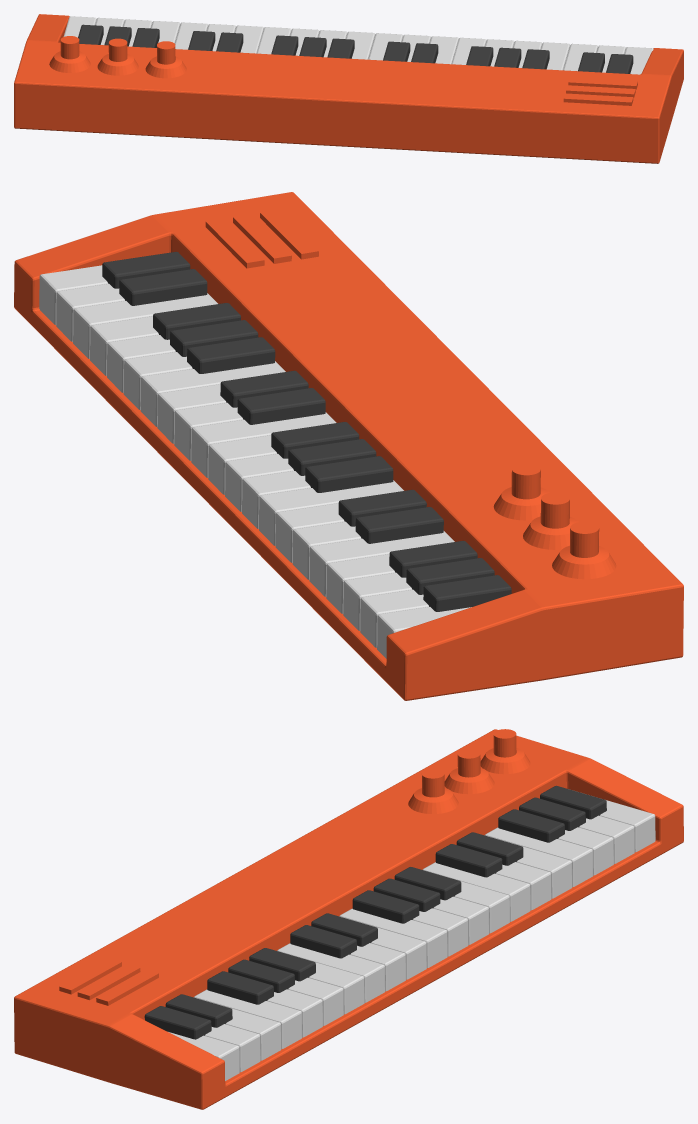
File: music-keyboard.glb
3 renders of one model, top to bottom at view 1: azimuth 30°, elevation 25°; view 2: azimuth 150°, elevation 25°; view 3: azimuth 270°, elevation 25°, orthographic. The views are drawn at different scales.
Visible parts, largest first — view 1: Plane.007; view 2: Plane.007; view 3: Plane.007.
Boxes of the visible parts, bbox=[...] form: Plane.007: bbox=[14, 14, 683, 163]; Plane.007: bbox=[14, 192, 683, 700]; Plane.007: bbox=[14, 729, 683, 1109].
Bounding box in the file's own units: 1.35 × 0.17 × 1.17.
